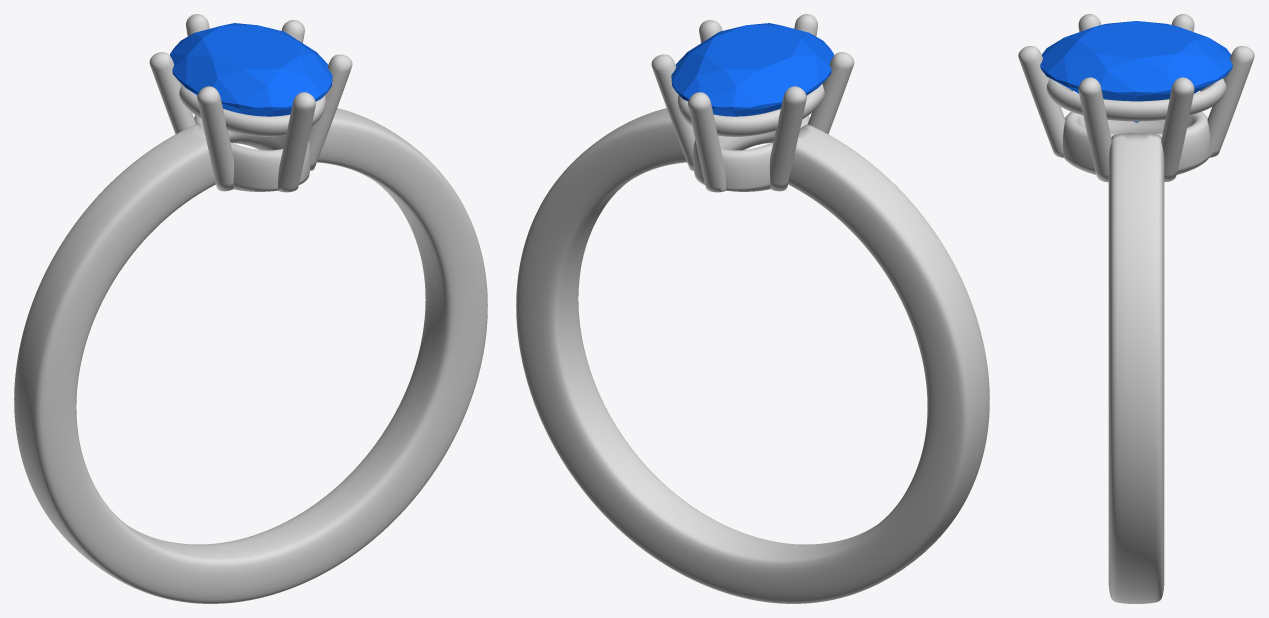
File: bluesapphire-oval-platinum-6prong-straightband-nosidestones.glb
3 views of the same model, side by side, from view 1: azimuth 30°, elevation 25°; view 2: azimuth 150°, elevation 25°; view 3: azimuth 270°, elevation 25° (orthographic).
Parts seen in each view (by area): view 1: metal, stone; view 2: metal, stone; view 3: metal, stone.
Part boxes in pixels (x1,y1,x2,y2): metal: (14, 14, 487, 603); stone: (170, 23, 332, 116); metal: (516, 14, 989, 603); stone: (671, 23, 833, 116); metal: (1018, 14, 1254, 603); stone: (1040, 21, 1232, 122).
Bounding box in the file's own units: 20.5 × 23.41 × 9.29.
